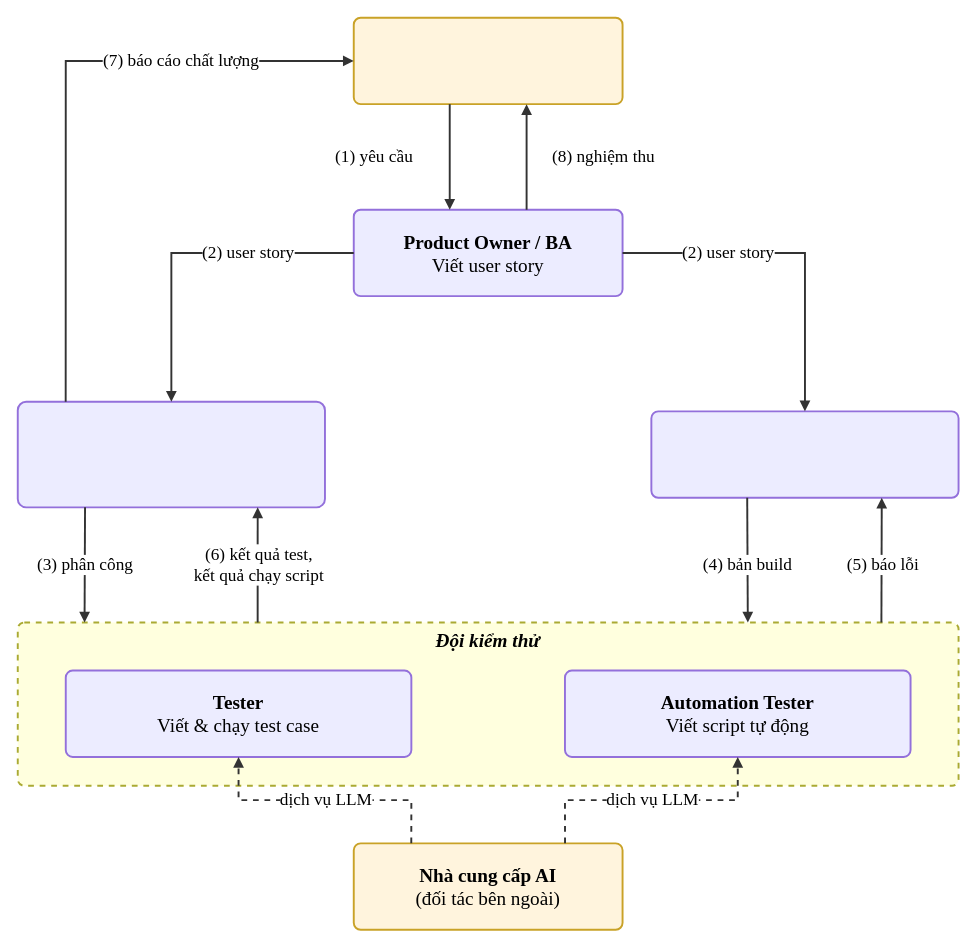
Some shapes in this 975 by 947 pixel diagram are drawn without their labels. The shapes that lost their labels are listed below. From the top down, each one's centre as x and y in pixels, then its label:
pixel 487 60: Khách hàng (đối tác bên ngoài)
pixel 170 454: QA Lead Phân công, duyệt test case, tổng hợp báo cáo
pixel 804 454: Developer Lập trình, sửa lỗi
